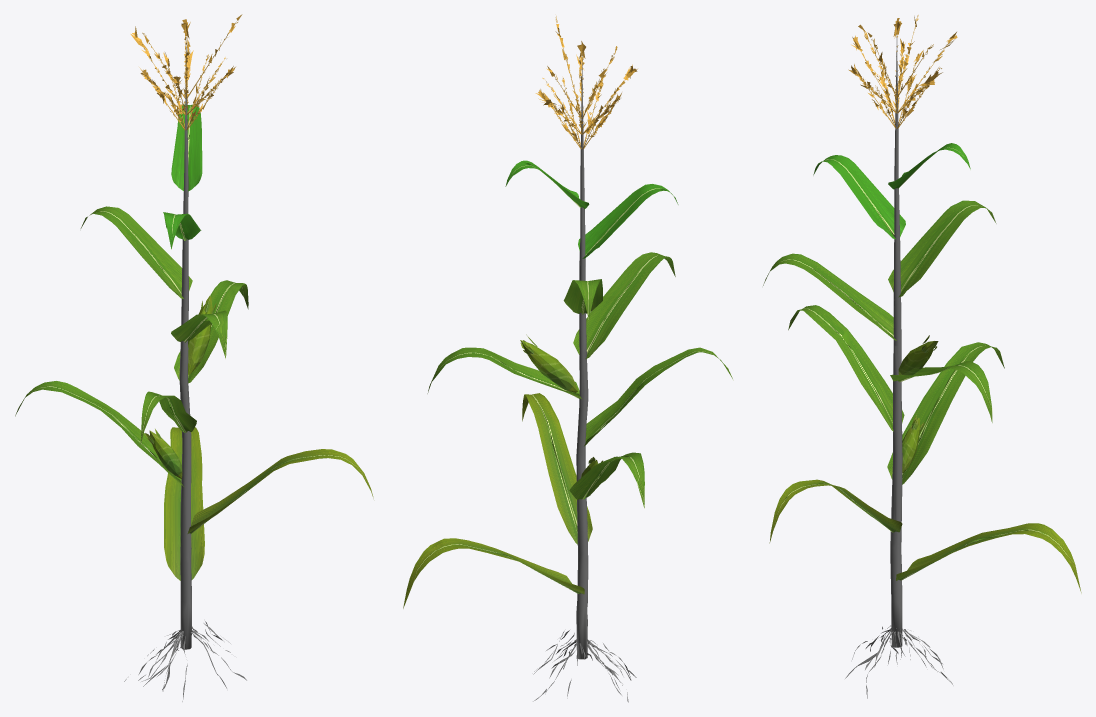
Rendered from YuMi 1.fbx.
3 views of the same model, side by side, from view 1: azimuth 30°, elevation 25°; view 2: azimuth 150°, elevation 25°; view 3: azimuth 270°, elevation 25° (orthographic).
Parts seen in each view (by area): view 1: Obj3d66-768914-17-476, Obj3d66-768914-13-191, Obj3d66-768914-16-309, Obj3d66-768914-14-866, Obj3d66-768914-8-713, Obj3d66-768914-11-553, Obj3d66-768914-6-247, Obj3d66-768914-3-309, Obj3d66-768914-9-776; view 2: Obj3d66-768914-17-476, Obj3d66-768914-13-191, Obj3d66-768914-16-309, Obj3d66-768914-14-866, Obj3d66-768914-8-713, Obj3d66-768914-6-247, Obj3d66-768914-11-553, Obj3d66-768914-9-776, Obj3d66-768914-5-708; view 3: Obj3d66-768914-17-476, Obj3d66-768914-16-309, Obj3d66-768914-13-191, Obj3d66-768914-14-866, Obj3d66-768914-8-713, Obj3d66-768914-11-553, Obj3d66-768914-9-776, Obj3d66-768914-6-247, Obj3d66-768914-5-708, Obj3d66-768914-3-309.
Part boxes in pixels (bbox=[...]): Obj3d66-768914-17-476: bbox=[15, 206, 248, 486]; Obj3d66-768914-13-191: bbox=[164, 427, 373, 580]; Obj3d66-768914-16-309: bbox=[179, 37, 191, 649]; Obj3d66-768914-14-866: bbox=[163, 104, 202, 249]; Obj3d66-768914-8-713: bbox=[130, 14, 242, 123]; Obj3d66-768914-11-553: bbox=[124, 621, 246, 701]; Obj3d66-768914-6-247: bbox=[188, 297, 212, 375]; Obj3d66-768914-3-309: bbox=[149, 430, 182, 478]; Obj3d66-768914-9-776: bbox=[135, 21, 236, 130]; Obj3d66-768914-17-476: bbox=[427, 252, 733, 508]; Obj3d66-768914-13-191: bbox=[403, 393, 592, 608]; Obj3d66-768914-16-309: bbox=[576, 54, 588, 659]; Obj3d66-768914-14-866: bbox=[505, 160, 678, 258]; Obj3d66-768914-8-713: bbox=[535, 16, 637, 144]; Obj3d66-768914-6-247: bbox=[520, 340, 577, 392]; Obj3d66-768914-11-553: bbox=[533, 630, 636, 702]; Obj3d66-768914-9-776: bbox=[539, 17, 624, 149]; Obj3d66-768914-5-708: bbox=[433, 219, 672, 593]; Obj3d66-768914-17-476: bbox=[763, 200, 1004, 484]; Obj3d66-768914-16-309: bbox=[890, 27, 902, 647]; Obj3d66-768914-13-191: bbox=[769, 479, 1081, 593]; Obj3d66-768914-14-866: bbox=[813, 143, 970, 239]; Obj3d66-768914-8-713: bbox=[848, 15, 957, 122]; Obj3d66-768914-11-553: bbox=[845, 625, 953, 698]; Obj3d66-768914-9-776: bbox=[856, 16, 952, 128]; Obj3d66-768914-6-247: bbox=[898, 341, 934, 377]; Obj3d66-768914-5-708: bbox=[785, 181, 1045, 579]; Obj3d66-768914-3-309: bbox=[902, 418, 920, 473].
Size of the model in its own units: 485 by 1277 by 554.
